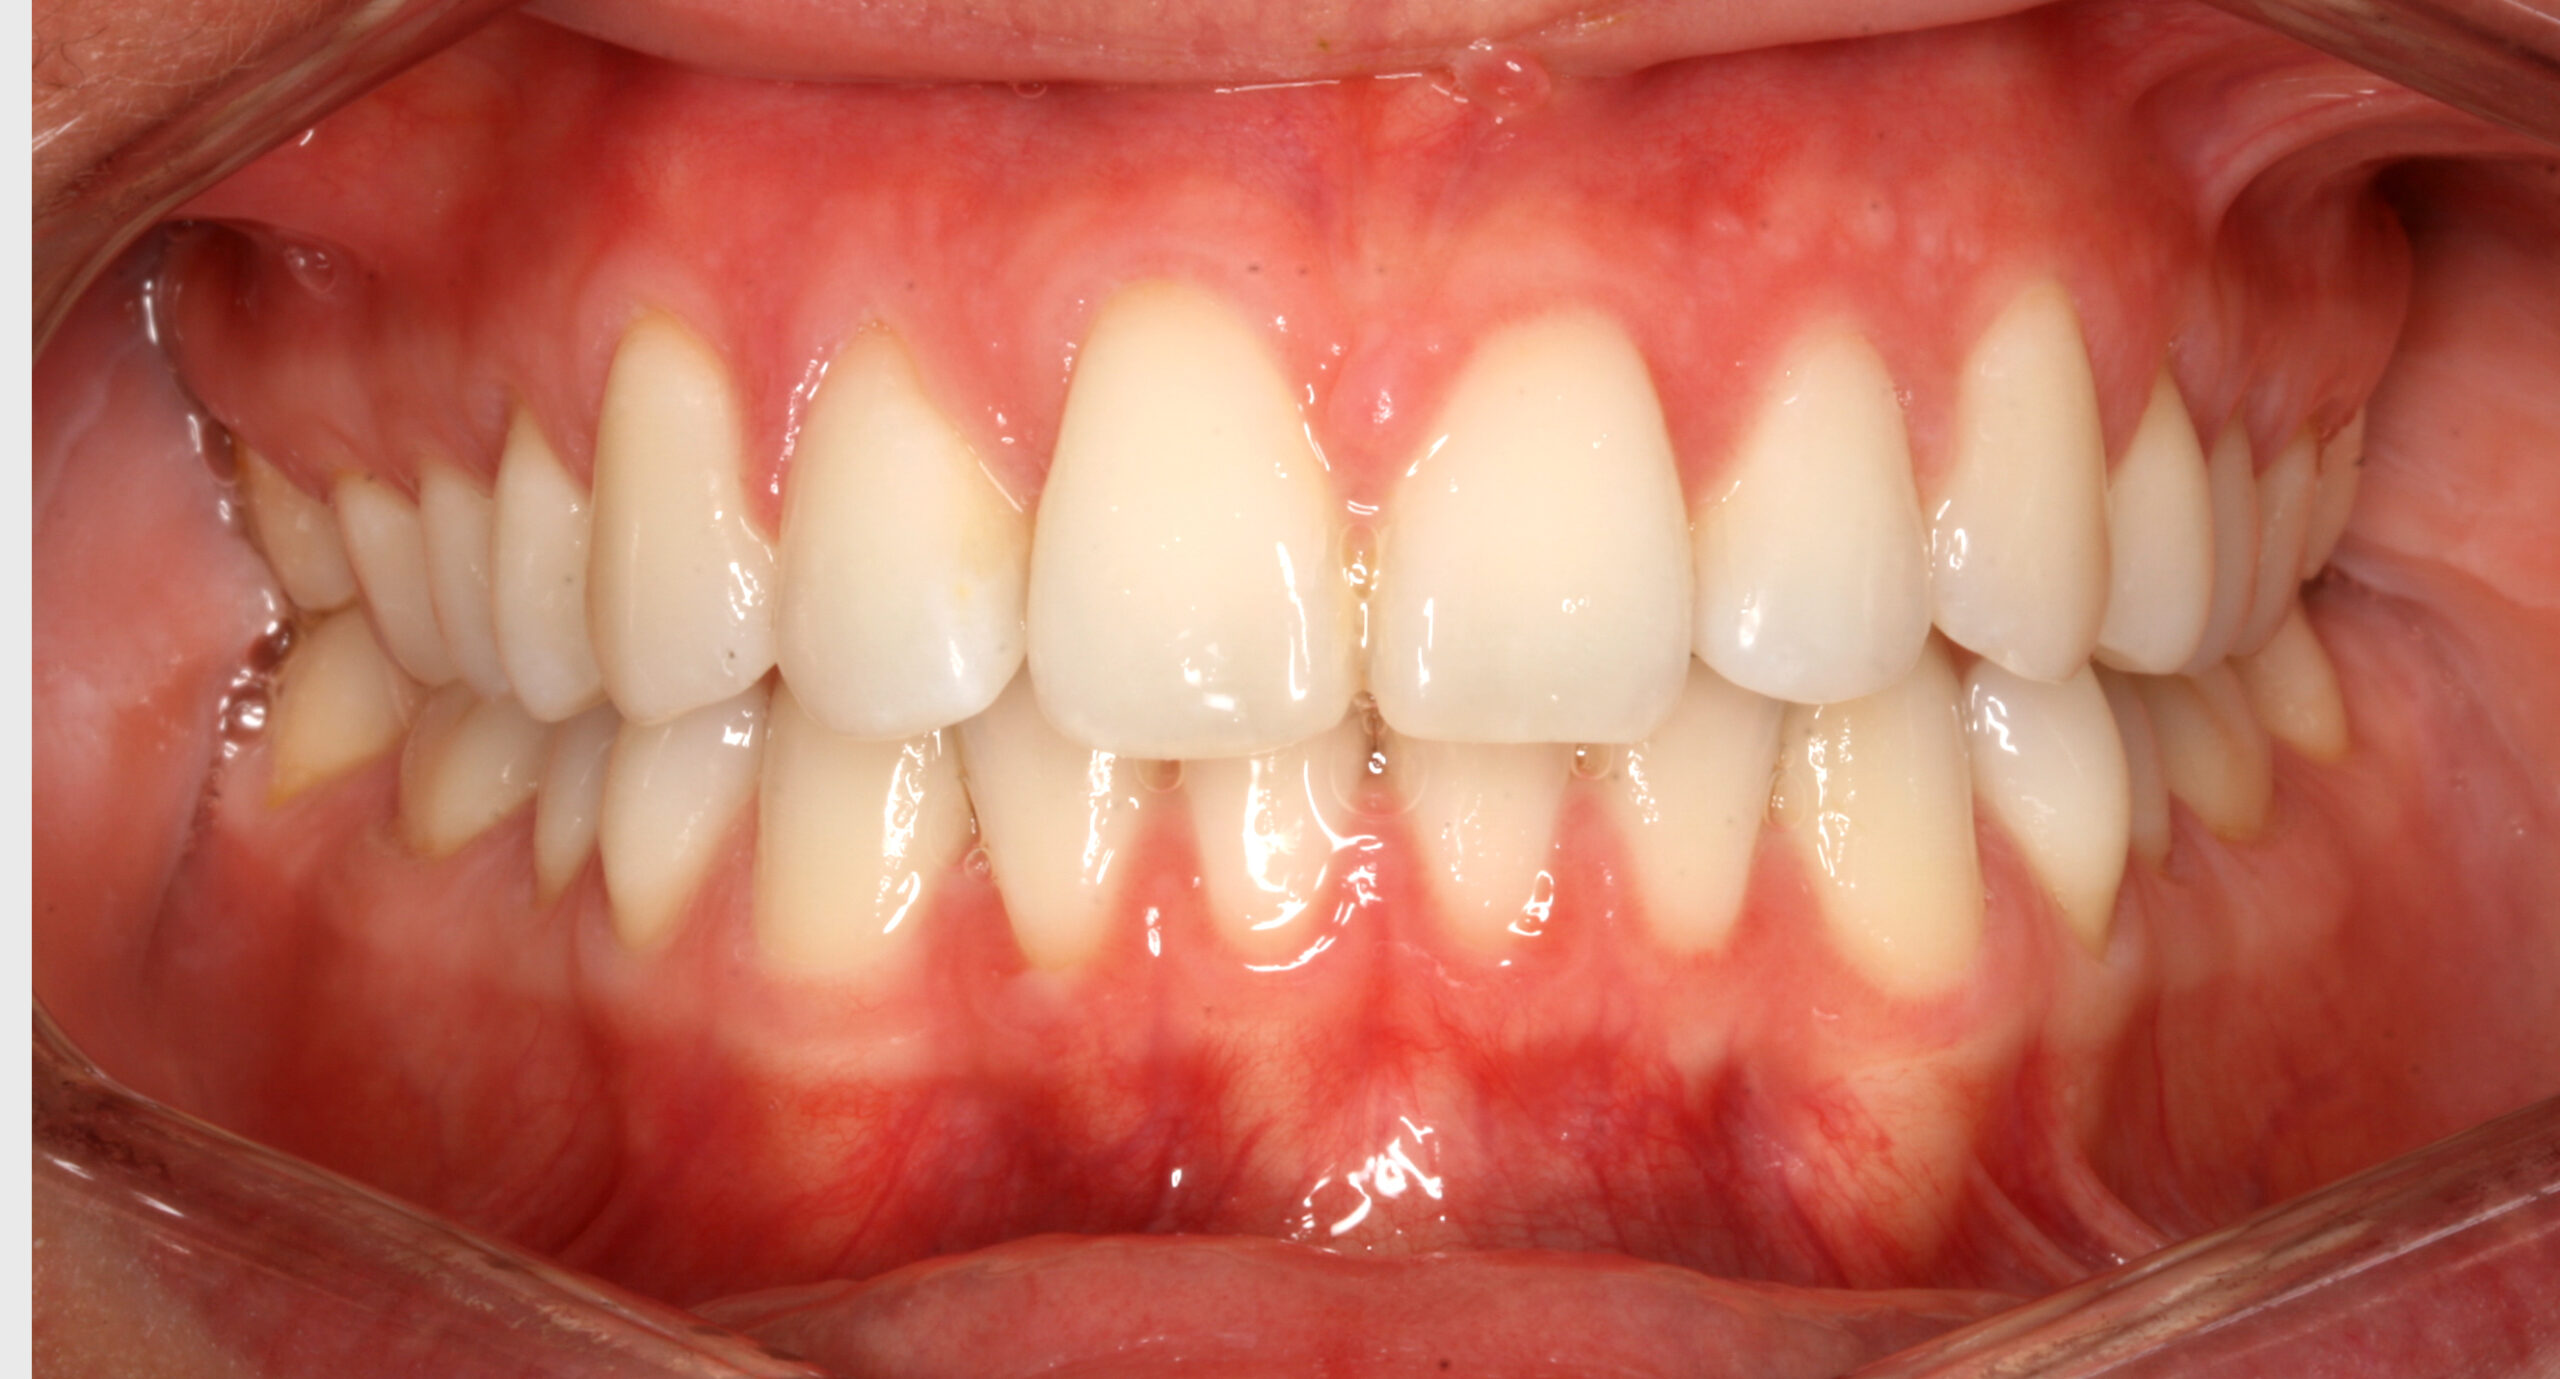LL1BC_healthy: (1979, 683, 2129, 932)
LL1M_healthy: (2170, 679, 2266, 837)
LL2BC_healthy: (2124, 684, 2171, 880)
LL2M_healthy: (2258, 628, 2343, 764)
LLCI_healthy: (1389, 740, 1567, 954)
LLC_healthy: (1794, 706, 1986, 1000)
LLLI_healthy: (1603, 740, 1781, 944)
LR1BC_healthy: (603, 722, 749, 944)
LR1M_healthy: (399, 712, 528, 854)
LR2BC_healthy: (533, 729, 598, 892)
LR2M_healthy: (267, 633, 402, 785)
LRCI_healthy: (1183, 757, 1355, 960)
LRC_healthy: (755, 735, 969, 987)
LRLI_healthy: (947, 752, 1158, 975)
UL1BC_healthy: (2103, 382, 2214, 673)
UL1M_healthy: (2254, 436, 2310, 656)
UL2BC_healthy: (2210, 431, 2249, 662)
UL2M_healthy: (2309, 414, 2360, 583)
ULCI_healthy: (1367, 309, 1693, 740)
ULC_healthy: (1934, 280, 2112, 684)
ULLI_healthy: (1693, 321, 1930, 706)
UR1BC_healthy: (494, 406, 589, 723)
UR1M_healthy: (326, 477, 453, 689)
UR2BC_healthy: (416, 462, 497, 701)
UR2M_healthy: (238, 442, 350, 610)
URCI_healthy: (1025, 282, 1355, 757)
URC_healthy: (587, 319, 778, 722)
URLI_healthy: (778, 343, 1024, 730)
